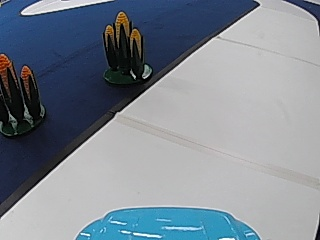corn: (101, 9, 152, 85), (0, 54, 47, 135)
